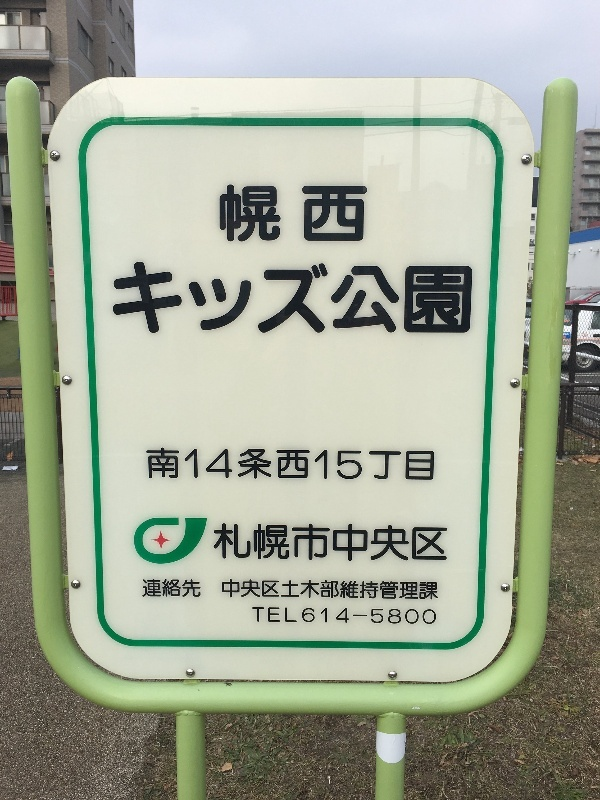text: (113, 263, 128, 341), (129, 263, 144, 341), (145, 263, 160, 341), (161, 263, 176, 341), (177, 263, 192, 341), (193, 263, 208, 341), (209, 263, 224, 341), (225, 263, 240, 341), (241, 263, 256, 341), (257, 263, 272, 341), (273, 263, 288, 341), (289, 263, 304, 341), (305, 263, 320, 341), (321, 263, 336, 341), (337, 263, 352, 341), (353, 263, 368, 341), (369, 263, 384, 341), (385, 263, 400, 341), (401, 263, 416, 341), (417, 263, 432, 341), (433, 263, 448, 341), (449, 263, 464, 341), (353, 185, 369, 245), (225, 185, 240, 245), (241, 185, 256, 245), (257, 185, 272, 245), (273, 185, 288, 245), (289, 185, 304, 245), (305, 185, 320, 245), (321, 185, 336, 245), (337, 185, 352, 245), (465, 263, 473, 341), (225, 523, 240, 561), (241, 523, 256, 561), (257, 523, 272, 561), (273, 523, 288, 561), (289, 523, 304, 561), (305, 523, 320, 561), (321, 523, 336, 561), (337, 523, 352, 561), (353, 523, 368, 561), (369, 523, 384, 561), (385, 523, 400, 561), (401, 523, 416, 561), (417, 523, 432, 561), (433, 523, 447, 561), (161, 449, 176, 483), (177, 449, 192, 483), (193, 449, 208, 483), (209, 449, 224, 483), (225, 449, 240, 483), (241, 449, 256, 483), (257, 449, 272, 483), (273, 449, 288, 483), (289, 449, 304, 483), (305, 449, 320, 483), (321, 449, 336, 483), (337, 449, 352, 483), (353, 449, 368, 483), (369, 449, 384, 483), (385, 449, 400, 483), (401, 449, 416, 483), (417, 449, 432, 483), (148, 449, 160, 483), (215, 523, 224, 561), (145, 576, 160, 598), (161, 576, 176, 598), (177, 576, 192, 598), (225, 580, 240, 600), (241, 580, 256, 600), (257, 580, 272, 600), (273, 580, 288, 600), (289, 580, 304, 600), (305, 580, 320, 600), (321, 580, 336, 600), (337, 580, 352, 600), (353, 580, 368, 600), (369, 580, 384, 600), (385, 580, 400, 600), (401, 580, 416, 600), (417, 580, 432, 600), (257, 608, 272, 625), (273, 608, 288, 625), (289, 608, 304, 625), (305, 608, 320, 625), (321, 608, 336, 625), (337, 608, 352, 625), (353, 608, 368, 625), (369, 608, 384, 625), (385, 608, 400, 625), (401, 608, 416, 625), (417, 608, 432, 625), (220, 185, 224, 245), (193, 576, 202, 598), (433, 580, 439, 600), (252, 608, 256, 625), (433, 608, 437, 625), (222, 580, 224, 600), (433, 449, 434, 483)
